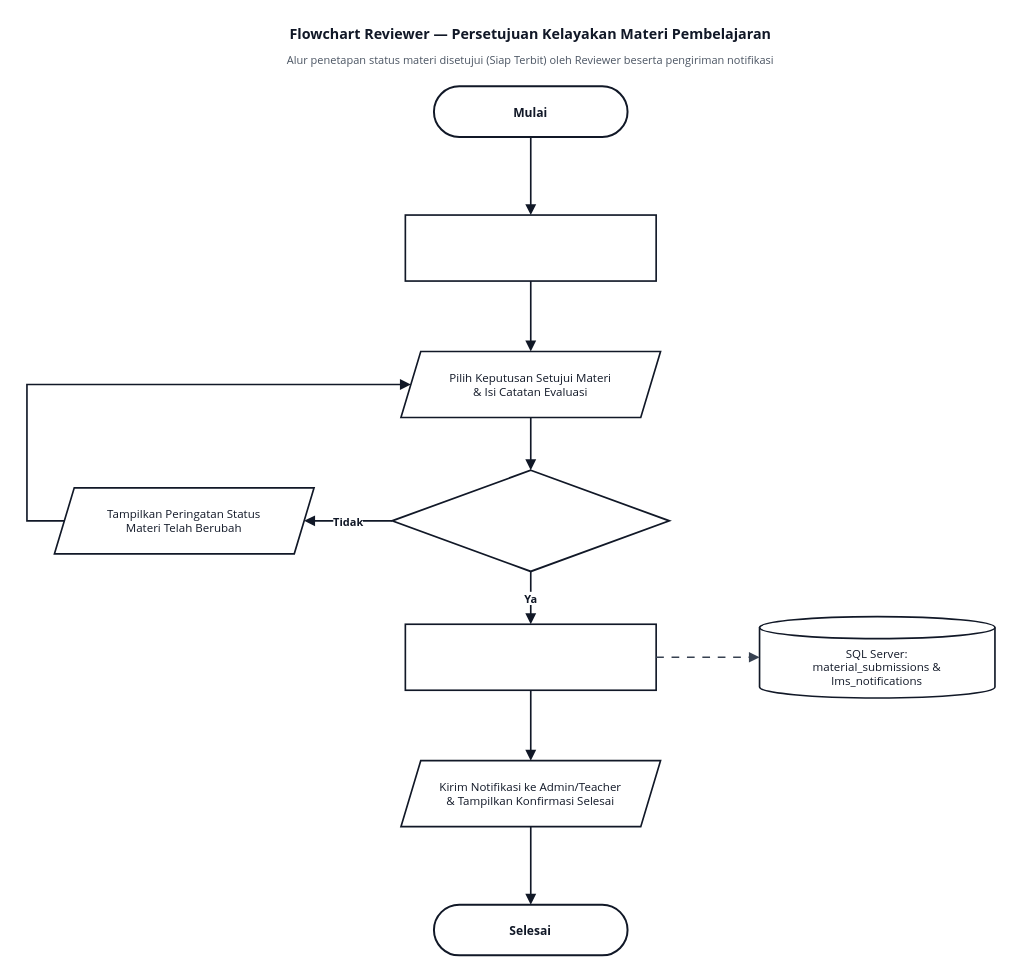
This 1015x975 diagram has some shape labels left out. The shapes that lost their labels are listed below. From the top down, each one's centre as x and y in pixels, then its label:
At point (530, 247): "Buka Panel Keputusan pada Halaman Portal Reviewer".
At point (530, 520): "Status Materi Masih Sedang Direview?".
At point (530, 657): "Perbarui Status Materi Menjadi Disetujui (approved / Siap Terbit)".
